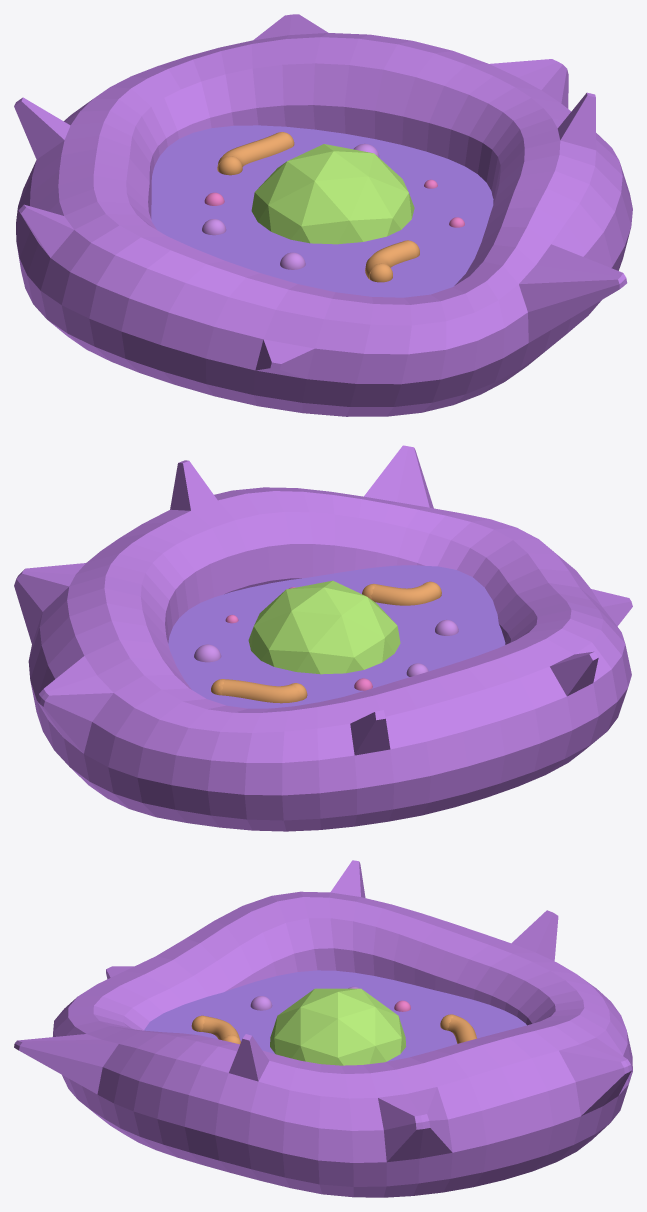
The model's file is WeakEnemyCell.fbx.
3 views of the same model, one above another, from view 1: azimuth 30°, elevation 25°; view 2: azimuth 150°, elevation 25°; view 3: azimuth 270°, elevation 25° (orthographic). The views are drawn at different scales.
Parts seen in each view (by area): view 1: Cell Membrane, Mitochondria, Mitochondria1; view 2: Cell Membrane, Mitochondria, Mitochondria1; view 3: Cell Membrane, Mitochondria1, Mitochondria.
Boxes of the visible parts, bbox=[...] form: Cell Membrane: bbox=[14, 14, 632, 416]; Mitochondria: bbox=[217, 132, 292, 170]; Mitochondria1: bbox=[365, 241, 416, 279]; Cell Membrane: bbox=[14, 445, 632, 831]; Mitochondria: bbox=[218, 679, 303, 703]; Mitochondria1: bbox=[370, 583, 440, 605]; Cell Membrane: bbox=[14, 860, 632, 1197]; Mitochondria1: bbox=[202, 1015, 239, 1040]; Mitochondria: bbox=[447, 1014, 476, 1043].
Size of the model in its own units: 2.58 by 0.8766 by 2.8.
